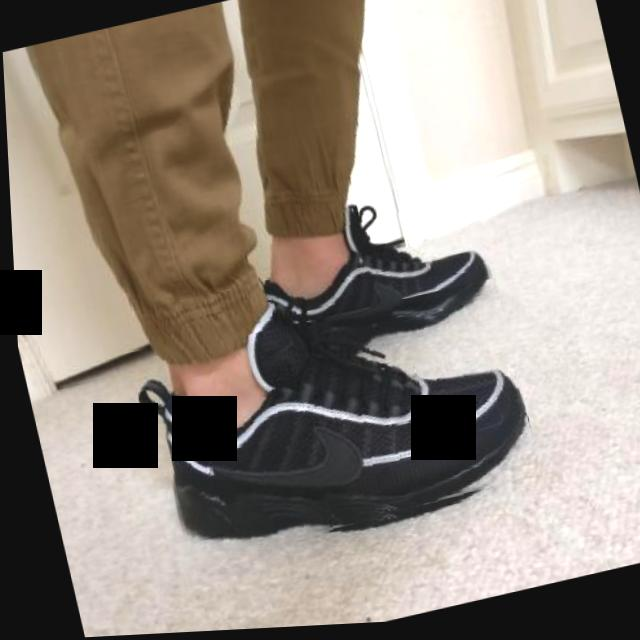shoe: (132, 281, 539, 572), (249, 184, 502, 374)
